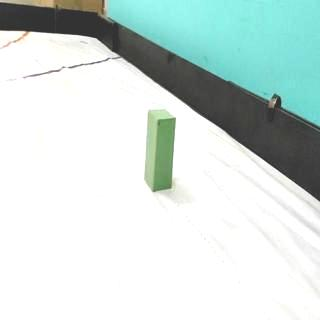greenbox: (143, 108, 177, 194)
